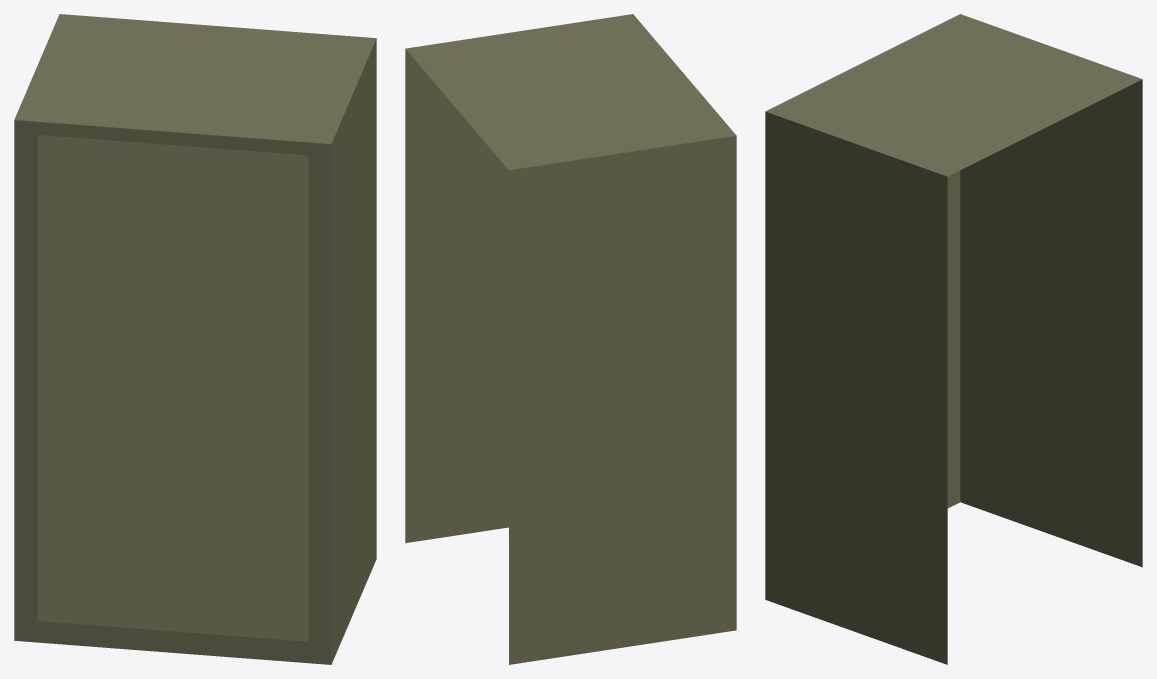
Rendered from MSH_QuestObject_locker_04.fbx.
3 renders of one model, left to right at view 1: azimuth 30°, elevation 25°; view 2: azimuth 150°, elevation 25°; view 3: azimuth 270°, elevation 25°, orthographic. The views are drawn at different scales.
Visible parts, largest first — view 1: MSH_QuestObject_locker_04; view 2: MSH_QuestObject_locker_04; view 3: MSH_QuestObject_locker_04.
Part boxes in pixels (x1,y1,x2,y2): MSH_QuestObject_locker_04: [14, 14, 376, 664]; MSH_QuestObject_locker_04: [405, 14, 736, 664]; MSH_QuestObject_locker_04: [765, 14, 1142, 664].
Size of the model in its own units: 1.41 by 1.97 by 1.38.
